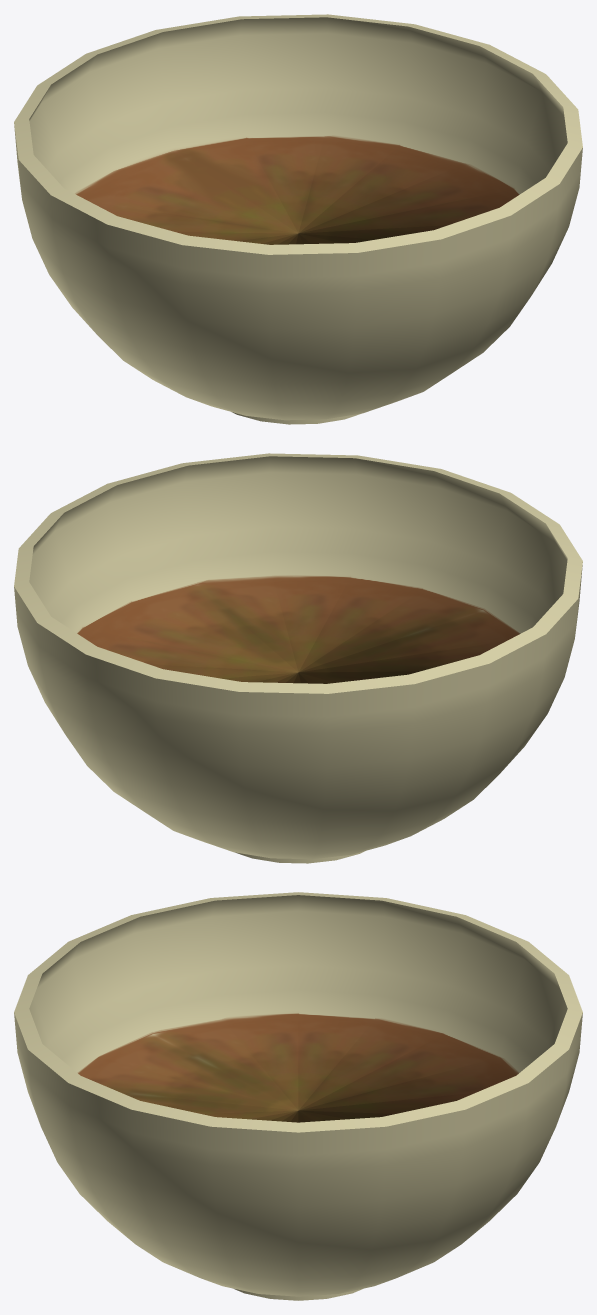
The model's file is bowlStew.fbx.
The picture shows the model from 3 angles, top to bottom: view 1: azimuth 30°, elevation 25°; view 2: azimuth 150°, elevation 25°; view 3: azimuth 270°, elevation 25°; orthographic projection.
Parts seen in each view (by area): view 1: pSphere1; view 2: pSphere1; view 3: pSphere1.
Part boxes in pixels (x1,y1,x2,y2): pSphere1: [14, 14, 582, 424]; pSphere1: [14, 453, 582, 863]; pSphere1: [14, 892, 582, 1300].
Bounding box in the file's own units: 14.81 × 7.31 × 14.81.
Materials: 1 (1 with a texture image).
